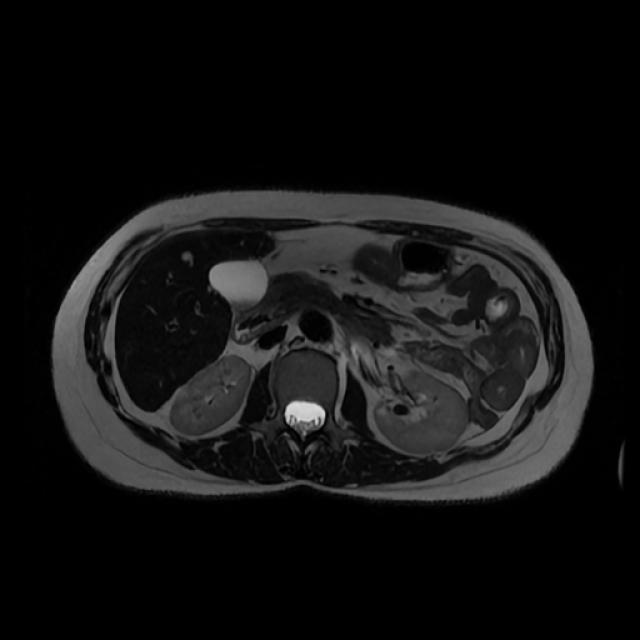sag: (174, 353, 252, 433)
sol: (374, 369, 469, 454)
